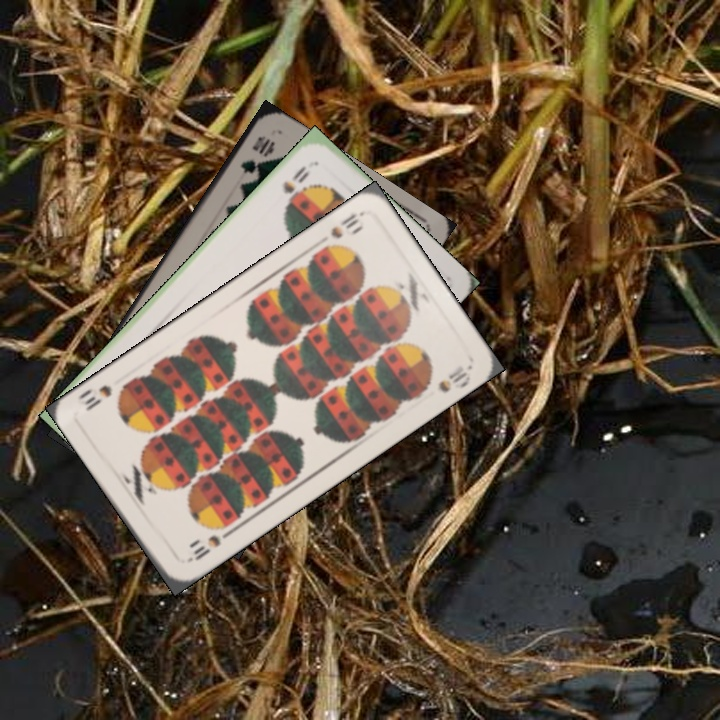G10: (236, 131, 277, 177)
S10: (318, 207, 366, 252), (182, 530, 224, 566)
SO: (278, 161, 312, 197)
